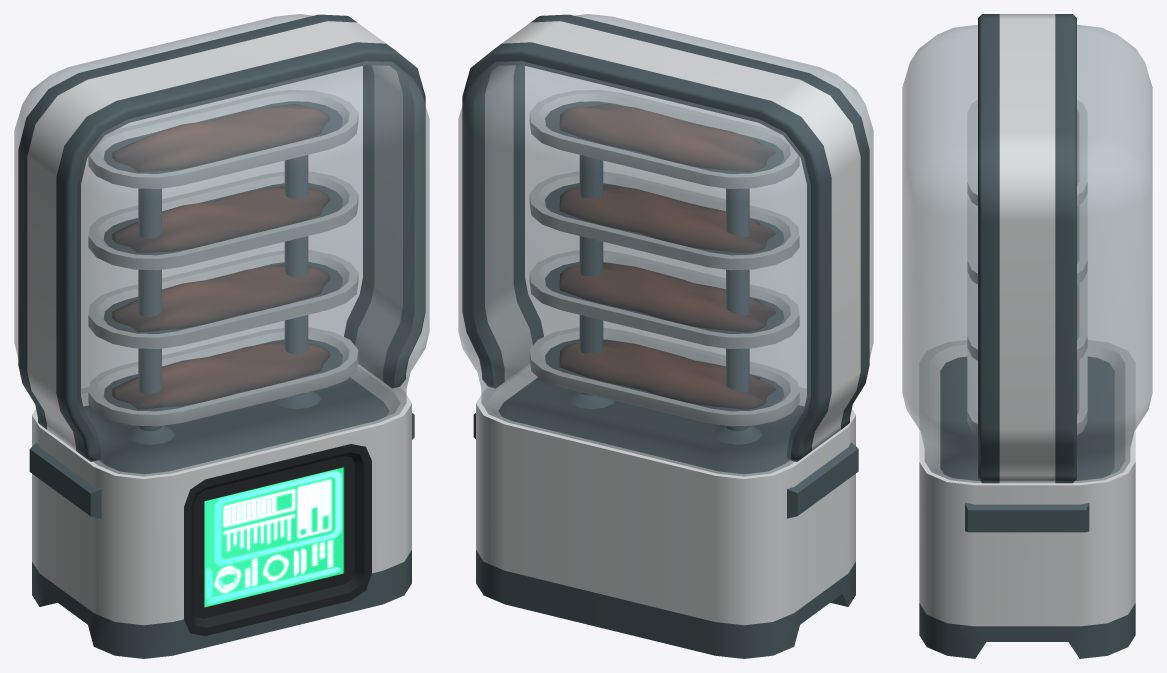
Rendered from Mini_farm_005.glb.
The picture shows the model from 3 angles, left to right: view 1: azimuth 30°, elevation 25°; view 2: azimuth 150°, elevation 25°; view 3: azimuth 270°, elevation 25°; orthographic projection. The views are drawn at different scales.
Visible parts, largest first — view 1: Mini_farm_005; view 2: Mini_farm_005; view 3: Mini_farm_005.
Boxes of the visible parts, box(x1,y1,x2,y2) form: Mini_farm_005: box(14, 14, 429, 658); Mini_farm_005: box(458, 14, 873, 658); Mini_farm_005: box(902, 14, 1152, 658).
Bounding box in the file's own units: 1.86 × 2.6 × 1.16.
4 materials, 4 textured.
